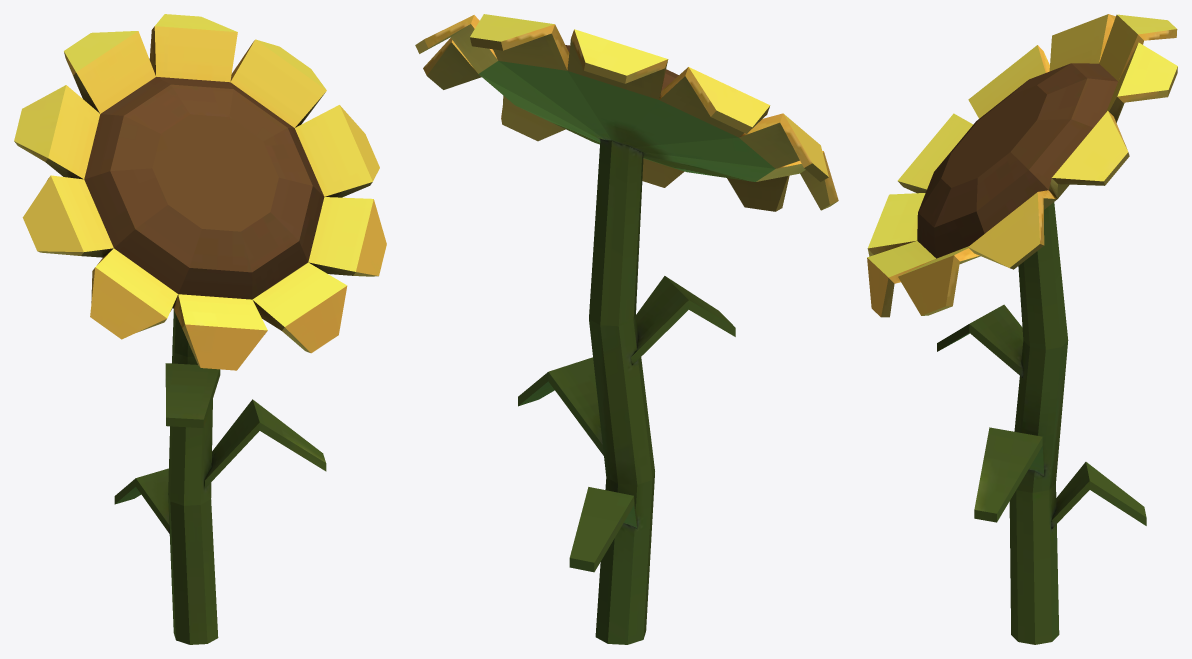
Rendered from sunflower-poly-by-google_ce4GXw3VYE5.glb.
3 renders of one model, left to right at view 1: azimuth 30°, elevation 25°; view 2: azimuth 150°, elevation 25°; view 3: azimuth 270°, elevation 25°, orthographic. The views are drawn at different scales.
Visible parts, largest first — view 1: sunflower; view 2: sunflower; view 3: sunflower.
Boxes of the visible parts, x1=… form: sunflower: x1=14, y1=14, x2=386, y2=644; sunflower: x1=415, y1=14, x2=838, y2=644; sunflower: x1=867, y1=14, x2=1177, y2=644.
Bounding box in the file's own units: 1.22 × 1.93 × 0.9138.
Materials: 1 (1 with a texture image).
